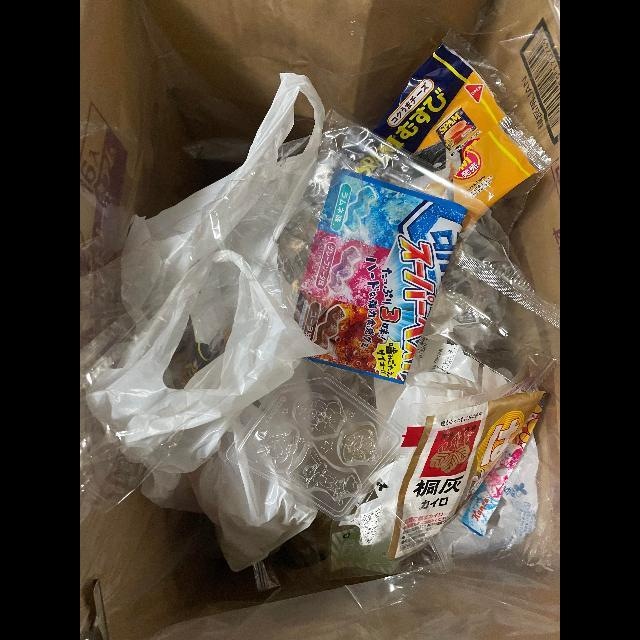plastic: (86, 250, 326, 574), (120, 73, 325, 326)
wrapper: (294, 169, 467, 385), (372, 29, 553, 208), (394, 392, 546, 559)
